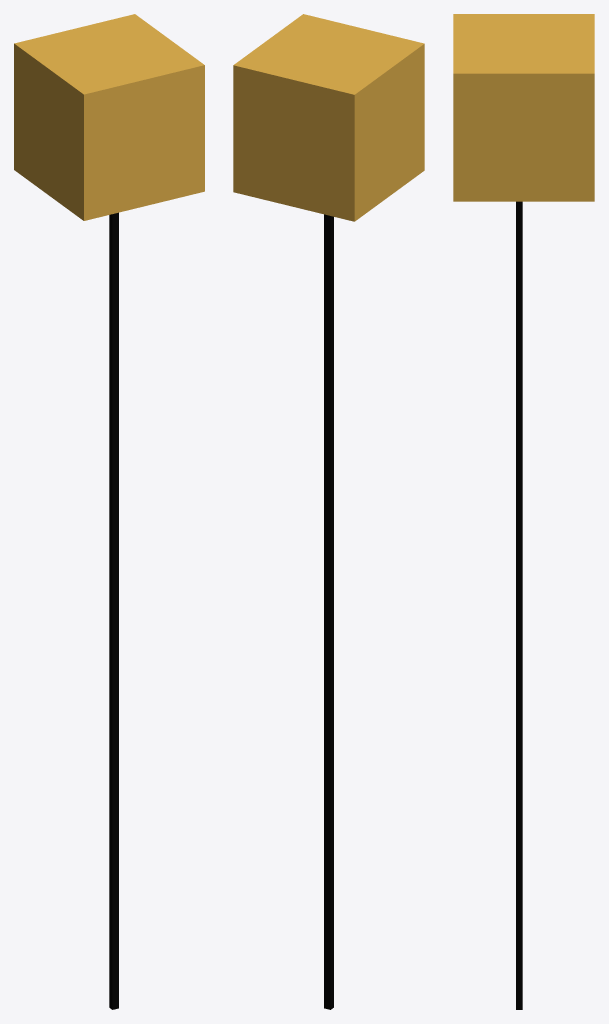
File: giftboxn.glb
3 renders of one model, left to right at view 1: azimuth 30°, elevation 25°; view 2: azimuth 150°, elevation 25°; view 3: azimuth 270°, elevation 25°, orthographic.
Visible parts, largest first — view 1: gift-box nice; view 2: gift-box nice; view 3: gift-box nice.
Part boxes in pixels (x1,y1,x2,y2): gift-box nice: (14,14,204,1009); gift-box nice: (233,14,424,1009); gift-box nice: (453,14,594,1009).
Size of the model in its own units: 0.096 by 0.7227 by 0.096.
